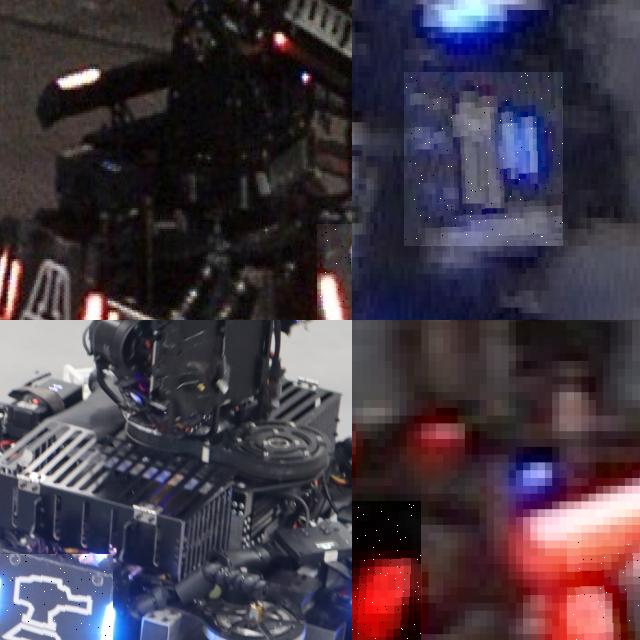B1: (404, 72, 564, 246)
Bs: (0, 554, 113, 640)
R1: (352, 501, 421, 640), (566, 540, 640, 640)
R2: (317, 224, 352, 320)
